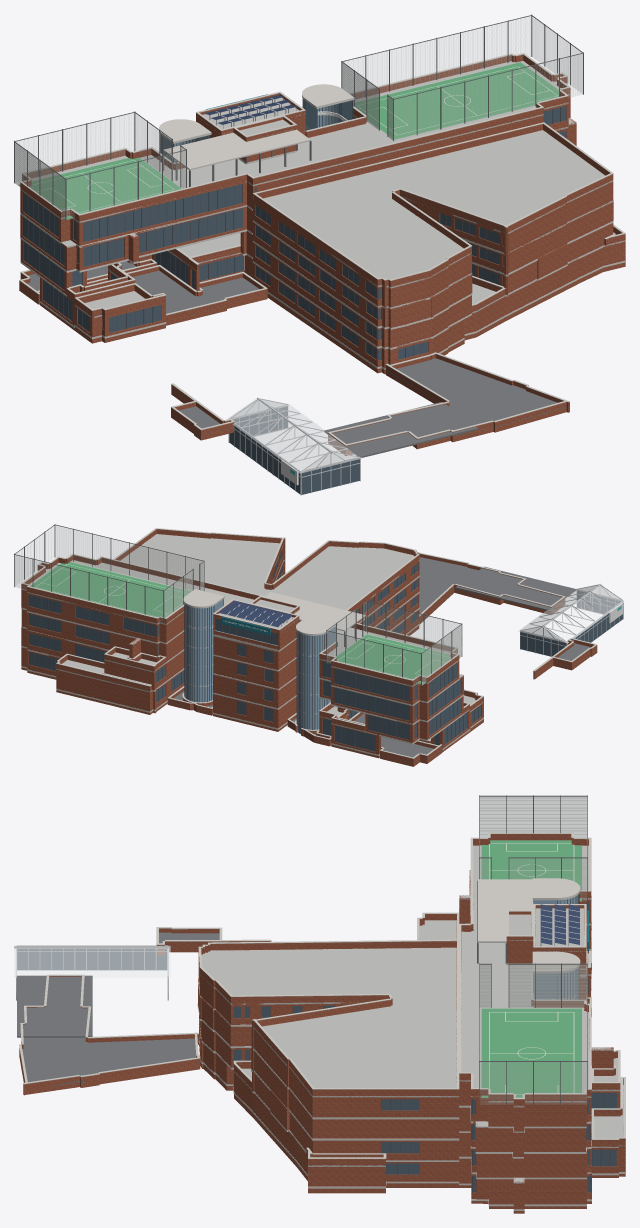
Rendered from campus-exterior.glb.
3 views of the same model, one above another, from view 1: azimuth 30°, elevation 25°; view 2: azimuth 150°, elevation 25°; view 3: azimuth 270°, elevation 25° (orthographic). The views are drawn at different scales.
Parts seen in each view (by area): view 1: C19_B_Storeys, C19_B_Roofs, C19_Courts, C19_Floor1_Roofs, C19_A_Storeys, C19_A_Roofs, C19_Access_Pavilion, C19_Rooftop, C19_Stair_Towers; view 2: C19_A_Storeys, C19_Courts, C19_B_Roofs, C19_A_Roofs, C19_Floor1_Roofs, C19_Stair_Towers, C19_Rooftop, C19_Access_Pavilion, C19_B_Storeys; view 3: C19_B_Roofs, C19_B_Storeys, C19_Courts, C19_A_Storeys, C19_Floor1_Roofs, C19_A_Roofs, C19_Rooftop, C19_Access_Pavilion, C19_Stair_Towers.
Part boxes in pixels (x1,y1,x2,y2): C19_B_Storeys: (74, 130, 625, 374); C19_B_Roofs: (75, 122, 625, 346); C19_Courts: (14, 14, 583, 220); C19_Floor1_Roofs: (19, 258, 569, 457); C19_A_Storeys: (20, 63, 576, 330); C19_A_Roofs: (20, 53, 576, 300); C19_Access_Pavilion: (226, 397, 362, 495); C19_Rooftop: (162, 91, 311, 186); C19_Stair_Towers: (159, 84, 354, 162); C19_A_Storeys: (21, 560, 470, 758); C19_Courts: (14, 524, 462, 686); C19_B_Roofs: (113, 528, 483, 712); C19_A_Roofs: (21, 553, 470, 735); C19_Floor1_Roofs: (167, 552, 597, 766); C19_Stair_Towers: (183, 589, 337, 733); C19_Rooftop: (213, 592, 366, 651); C19_Access_Pavilion: (518, 583, 625, 656); C19_B_Storeys: (120, 534, 483, 731); C19_B_Roofs: (198, 912, 459, 1166); C19_B_Storeys: (197, 922, 459, 1193); C19_Courts: (479, 795, 587, 1105); C19_A_Storeys: (459, 845, 625, 1213); C19_Floor1_Roofs: (17, 927, 591, 1095); C19_A_Roofs: (459, 832, 625, 1183); C19_Rooftop: (477, 879, 588, 975); C19_Access_Pavilion: (14, 945, 170, 1000); C19_Stair_Towers: (532, 878, 580, 999).
Bounding box in the file's own units: 81.2 × 23.01 × 76.22.
Materials: 18 (2 with a texture image).
